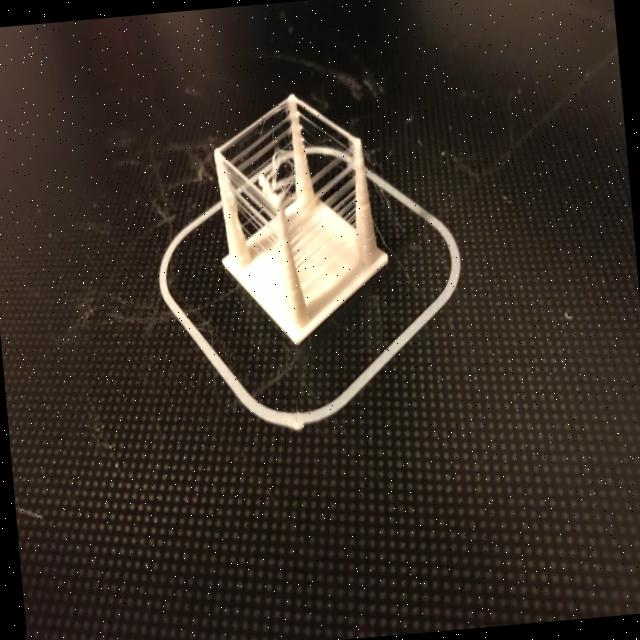stringing: (286, 145, 353, 287), (222, 94, 295, 201), (297, 95, 352, 158)
